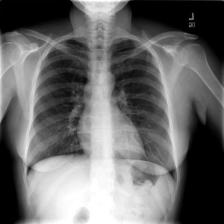normal: (23, 32, 180, 184)
